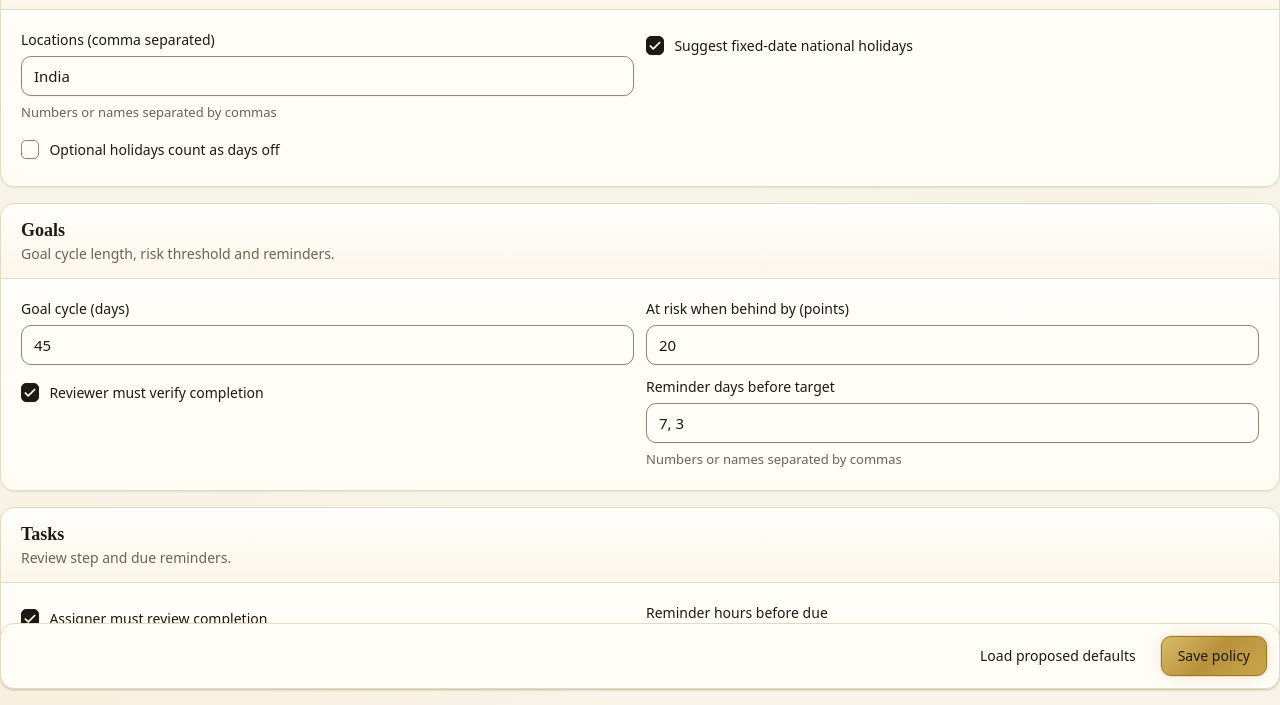
Test: PolicyPage › blocks invalid numbers client-side and shows server field errors
(page scrolled)
Replace the text in the field labelled "Goal cycle (days)" with "abc" at (328, 346), box 21,326 -> 634,366
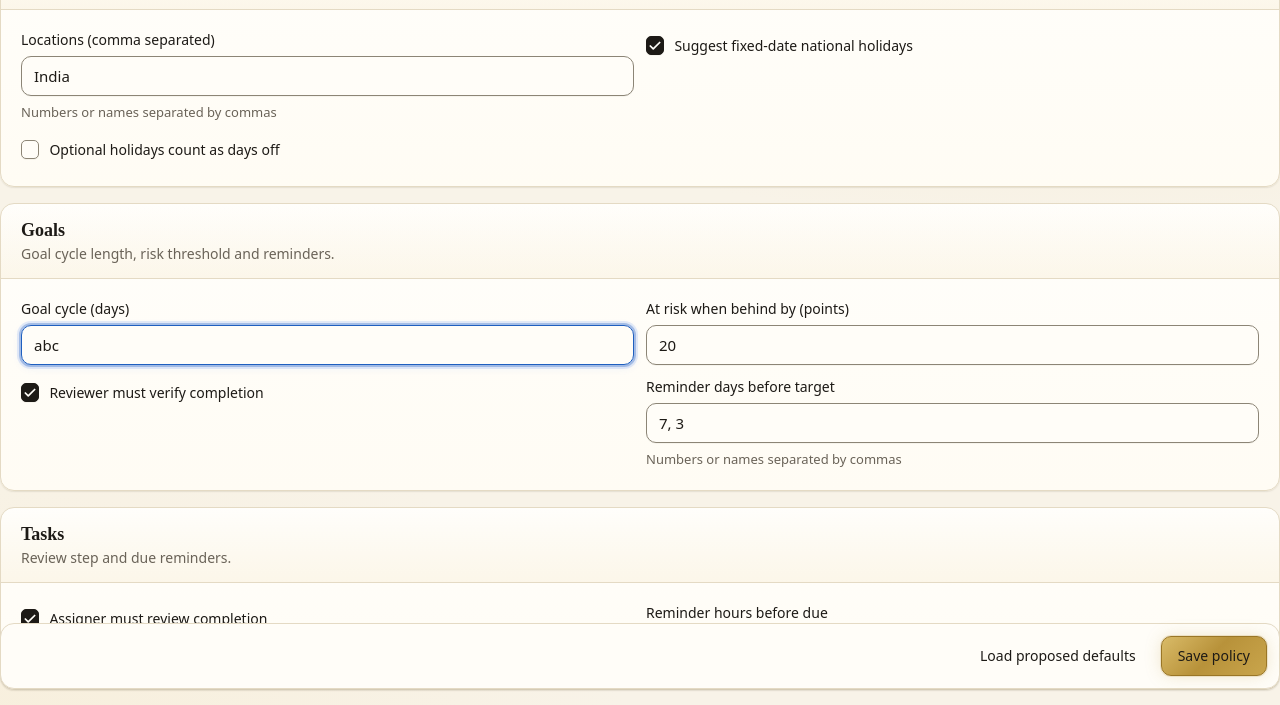
Click the button "Save policy" at (1214, 656), box 1161,636 -> 1267,676
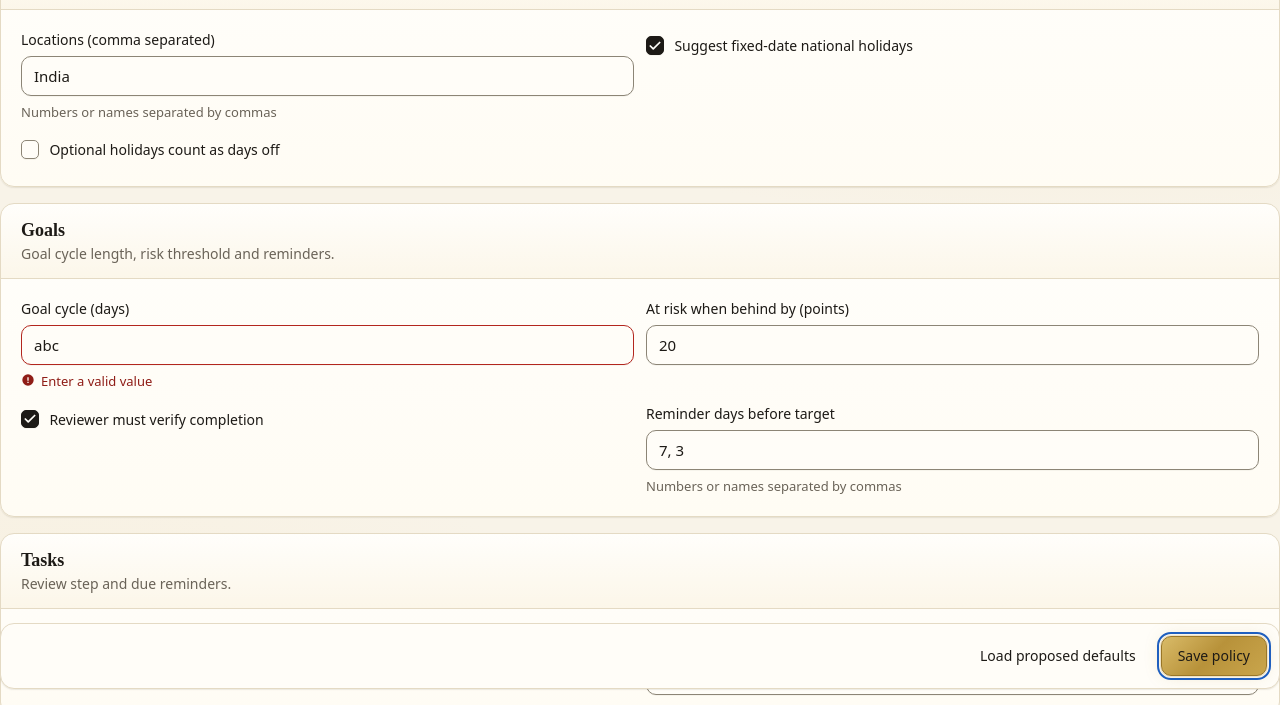
Replace the text in the field labelled "Goal cycle (days)" with "30" at (328, 346), box 21,326 -> 634,366
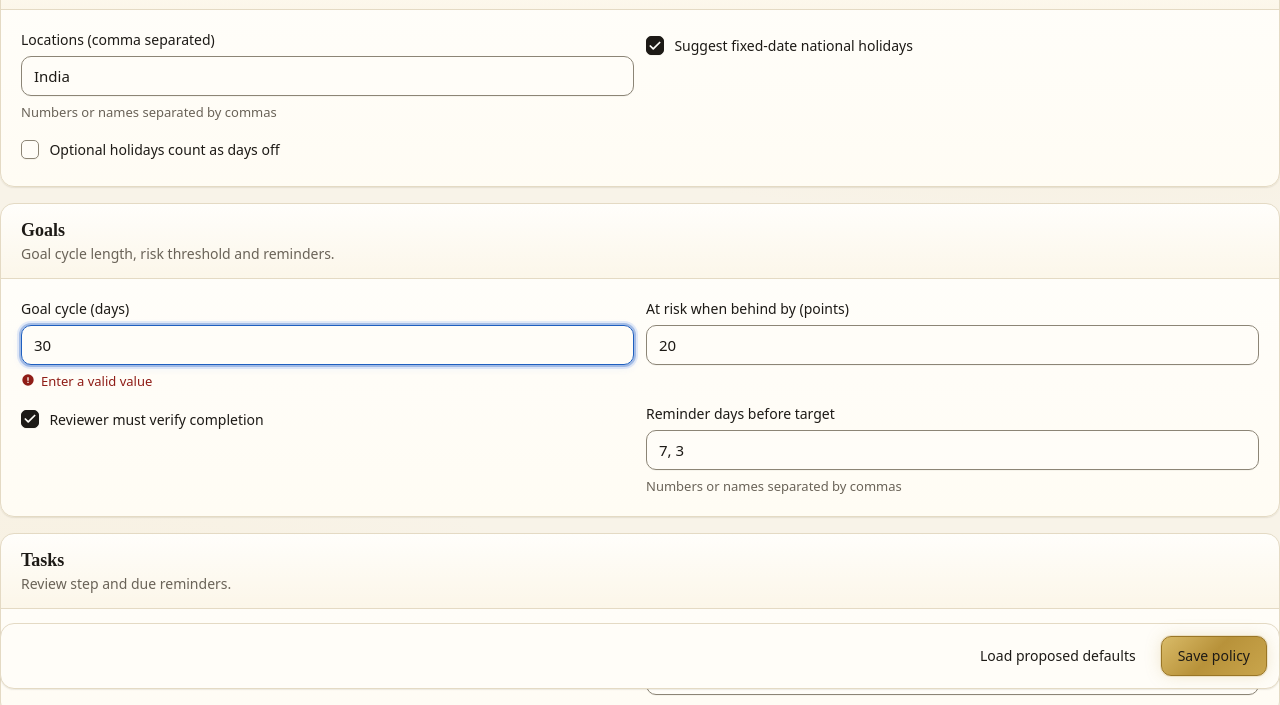
Click the button "Save policy" at (1214, 656), box 1161,636 -> 1267,676
(page scrolled)
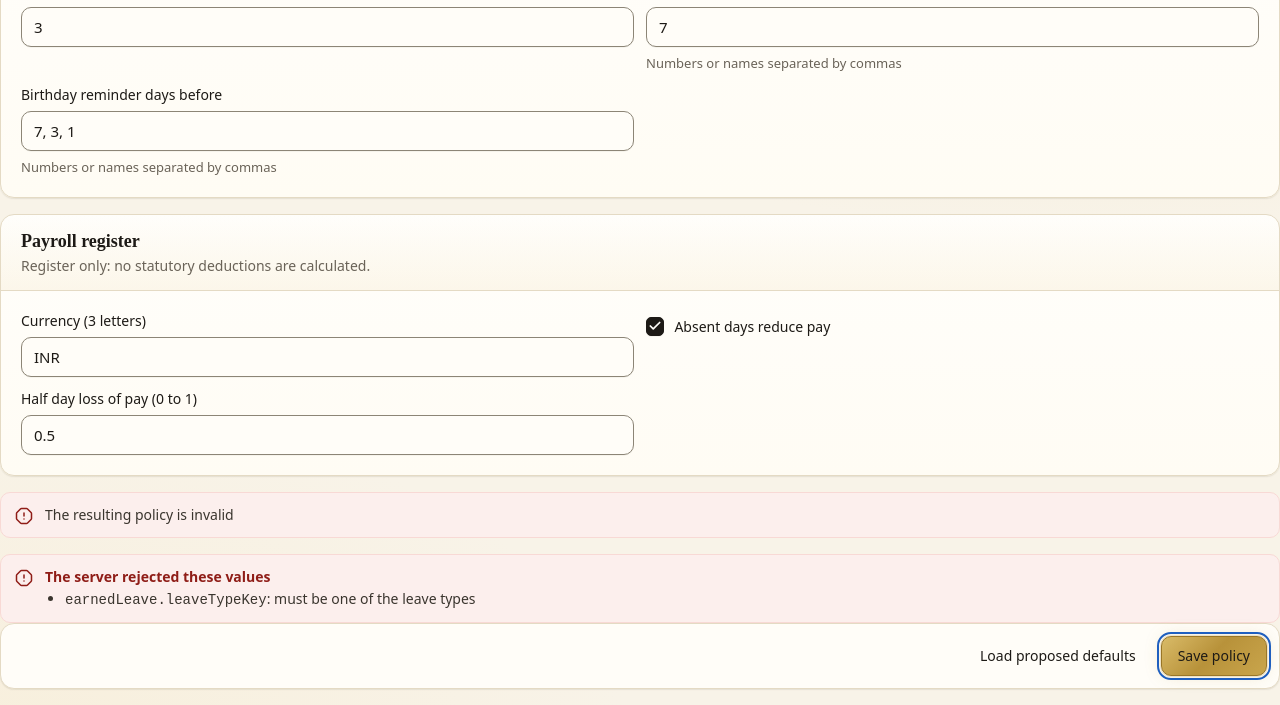
Now the text "The server rejected these values" is shown, box 45,567 -> 270,586
Now the list item "earnedLeave.leaveTypeKey: must be one of the leave types" is shown, box 65,589 -> 476,608
